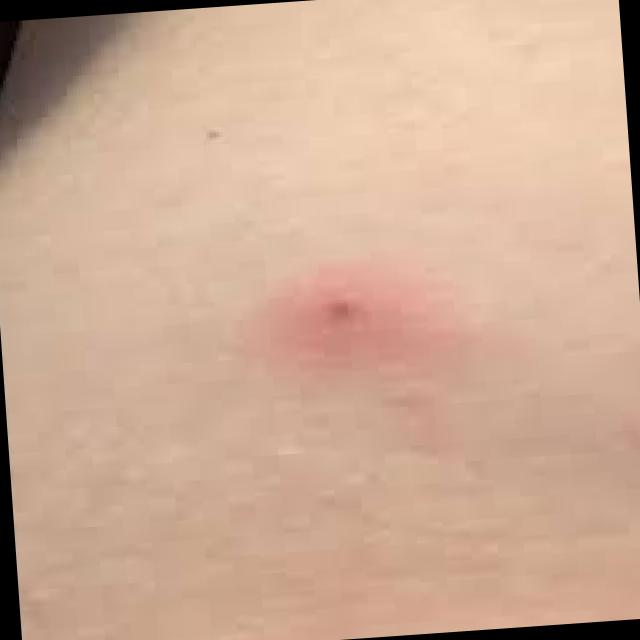kene: (298, 268, 391, 348)
